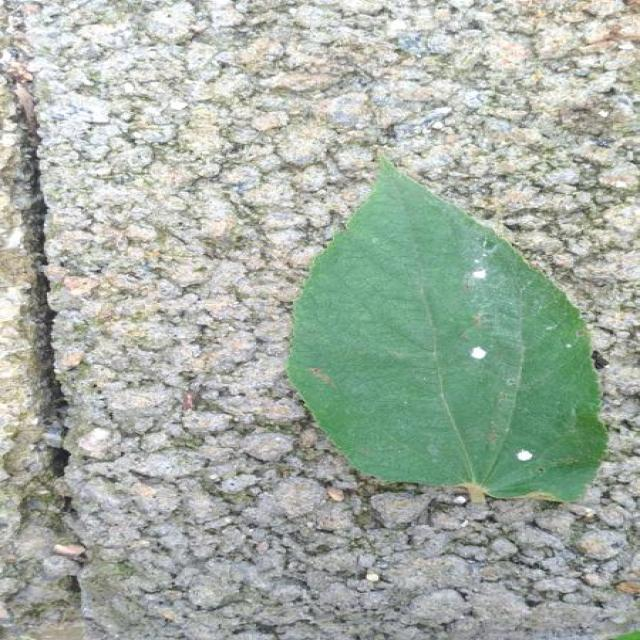gasagase: (288, 162, 607, 501)
